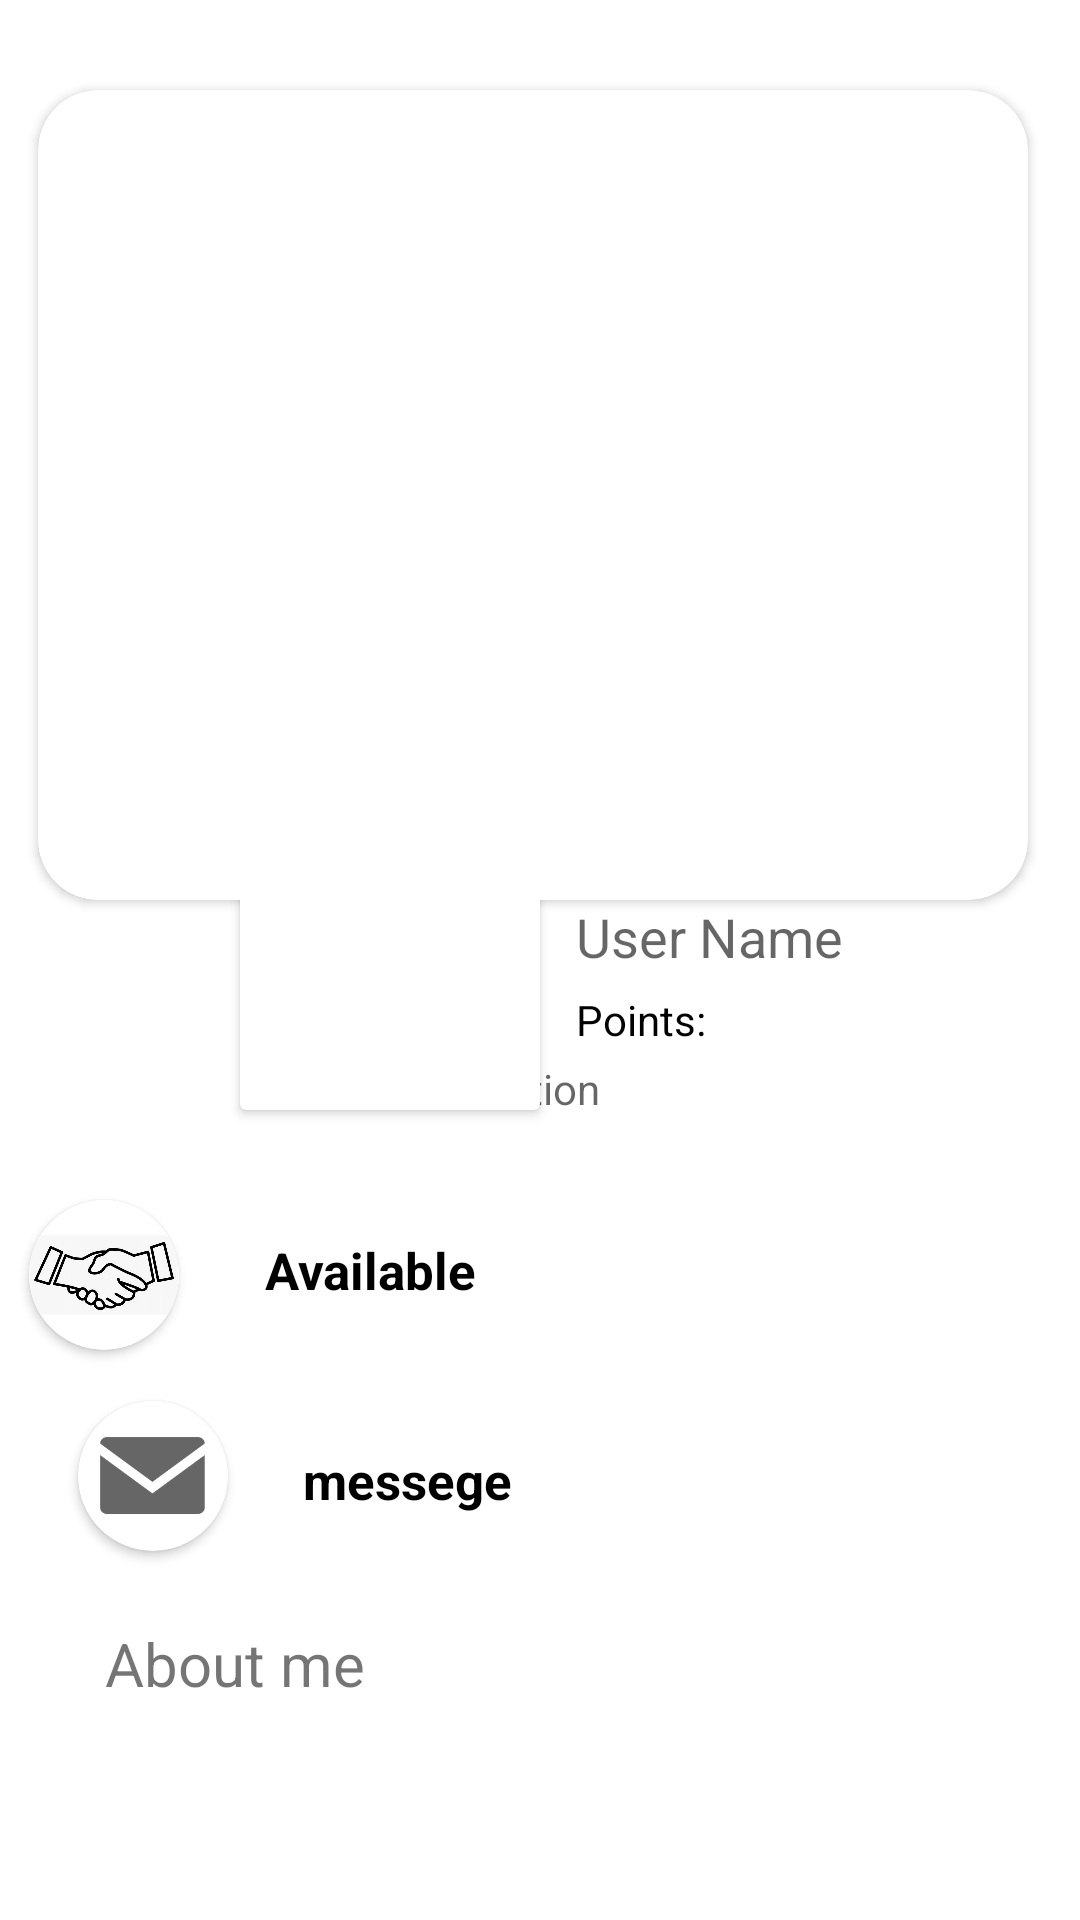

Where to tap for icons on this 1080 × 1920 app screen, as (x,y):
handshake: (101,1296)
mailim: (152,1475)
